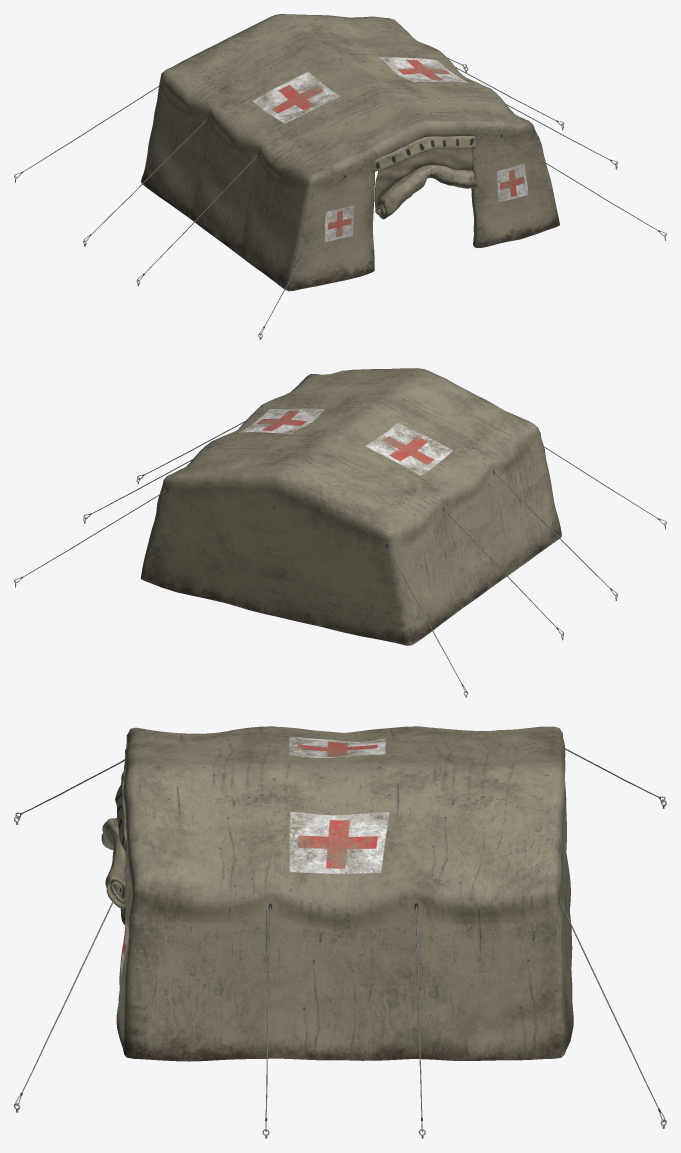
Rendered from medical_tent.glb.
3 views of the same model, one above another, from view 1: azimuth 30°, elevation 25°; view 2: azimuth 150°, elevation 25°; view 3: azimuth 270°, elevation 25° (orthographic). The views are drawn at different scales.
Parts seen in each view (by area): view 1: Tent_High, Door_Roll_High, Door_Cover; view 2: Tent_High; view 3: Tent_High, Door_Roll_High.
Part boxes in pixels (<box>): Tent_High: <box>141,14,559,291</box>; Door_Roll_High: <box>374,147,476,219</box>; Door_Cover: <box>373,135,476,171</box>; Tent_High: <box>140,368,561,645</box>; Tent_High: <box>116,726,573,1061</box>; Door_Roll_High: <box>101,818,127,908</box>.
Size of the model in its own units: 33.26 by 9.26 by 26.87.
Materials: 4 (4 with a texture image).
